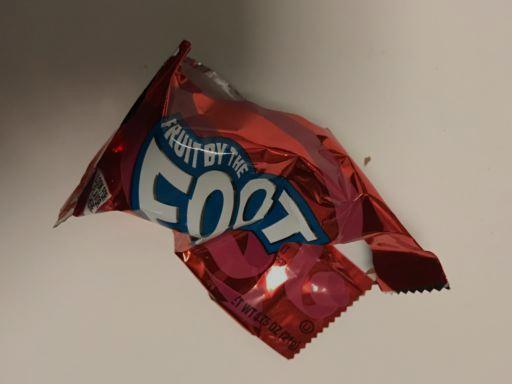trash: (55, 37, 453, 363)
